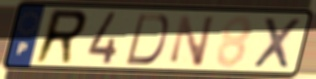4: (85, 10, 119, 67)
8: (213, 14, 255, 70)
D: (123, 12, 171, 67)
N: (168, 14, 217, 69)
R: (31, 7, 91, 66)
X: (251, 16, 304, 71)
